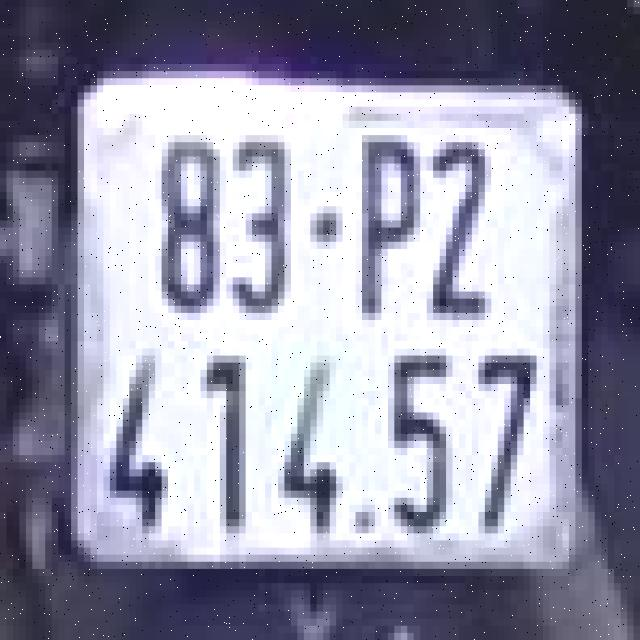1: (194, 338, 259, 537)
2: (423, 124, 501, 323)
3: (223, 117, 294, 338)
4: (104, 345, 174, 537), (275, 342, 339, 534)
5: (375, 338, 459, 544)
7: (462, 338, 546, 537)
8: (145, 125, 223, 316)
P: (343, 121, 420, 327)
